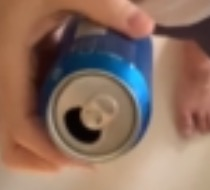tonica: (41, 17, 152, 164)
